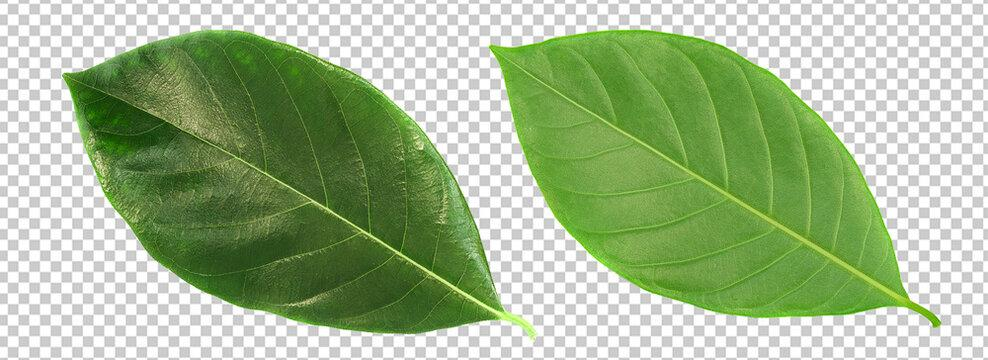Healthy Citrus: (55, 33, 512, 343), (495, 31, 919, 322), (76, 45, 496, 315), (502, 51, 878, 297)
